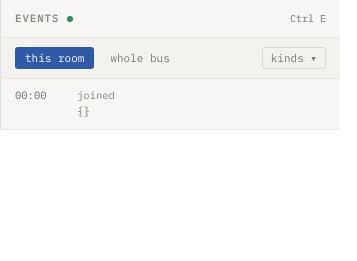
unchecking a kind hides its rows
Click the button "whole bus" at (140, 58), box left=100, top=47, right=180, bottom=69
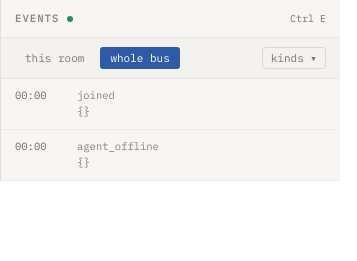
Click the button with test id "kinds-toggle" at (294, 58), box left=262, top=47, right=326, bottom=69
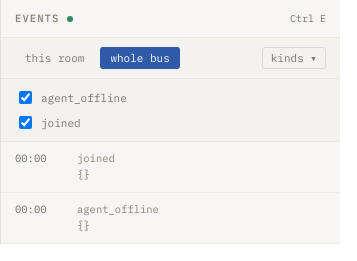
Click the checkbox labelled "joined" at (26, 122), box left=19, top=116, right=32, bottom=129
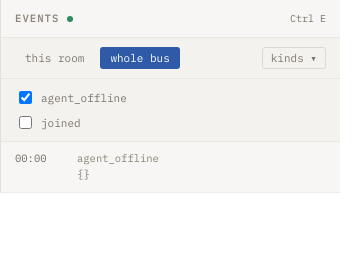
Now the number of elements with test id "event-row" is 1, box left=1, top=142, right=340, bottom=193
